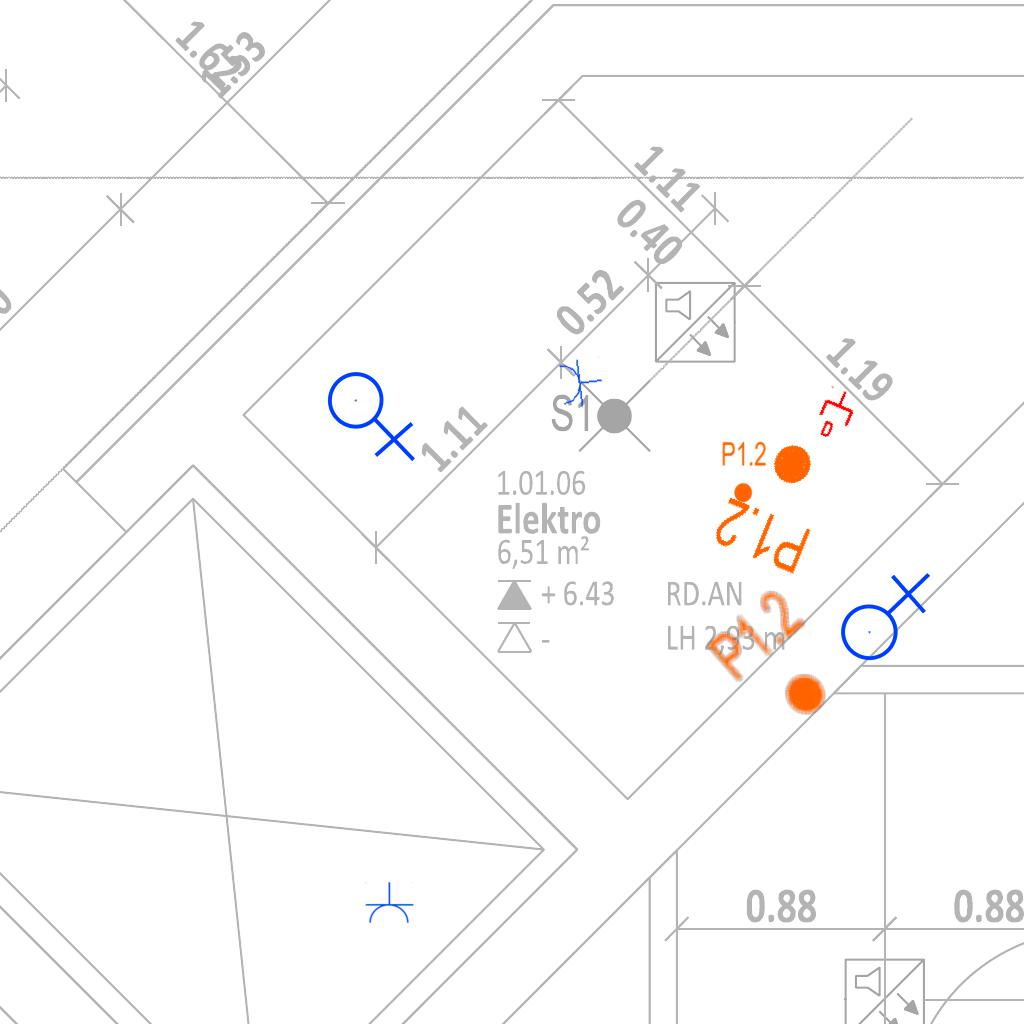Datenanschluss_einfach: (810, 384, 862, 444)
Downlight_LED_Einbauleuchten_Flur: (702, 583, 857, 741), (708, 425, 843, 579), (721, 440, 767, 504)
Elektroanschluss_allgemein_230V_Geraeteanschlussdose_230V: (326, 363, 420, 462), (832, 568, 931, 662)
Schukosteckdose_einfach: (556, 355, 606, 410), (364, 882, 414, 925)
